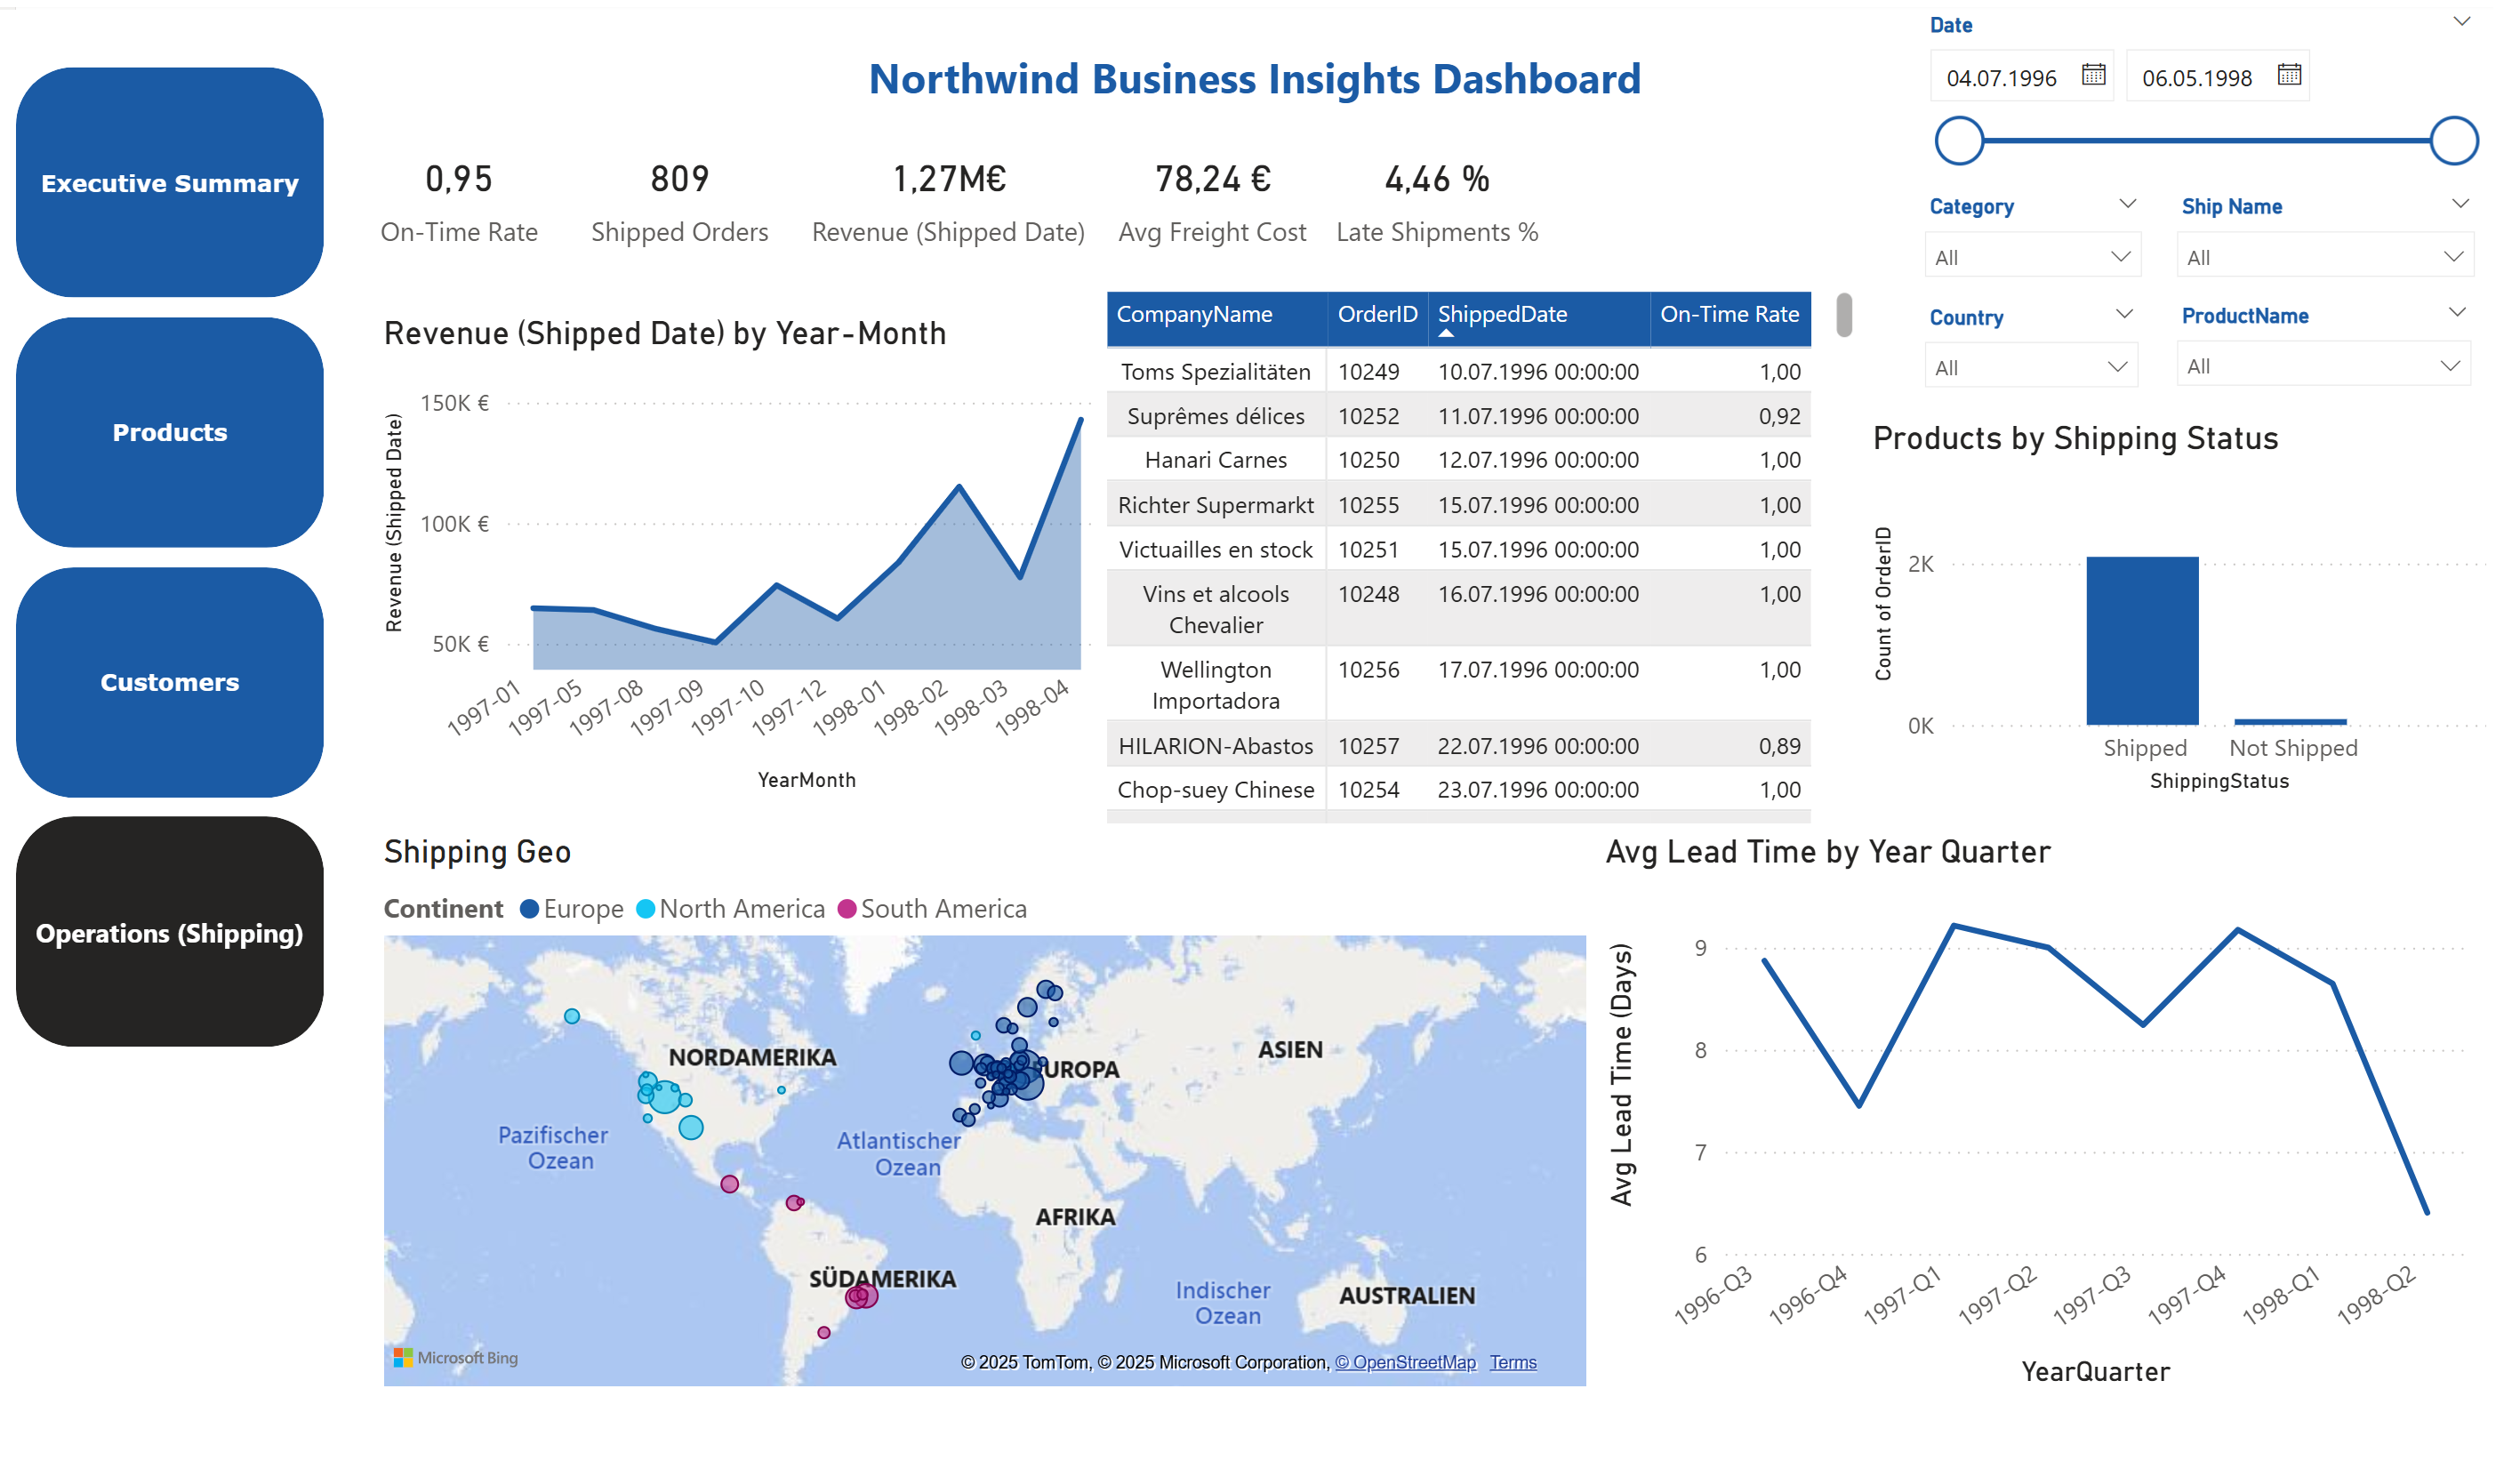

Layout of this report page (visuals, bound fields, positions):
{"tool":"powerbi","page":{"name":"Operations (Shipping)","canvas":[1280,720],"ordinal":3},"visuals":[{"type":"textbox","box":[405,19.5,470,47.4],"z":0},{"type":"pageNavigator","box":[0,33.7,159.9,506.2],"z":1000},{"type":"slicer","fields":{"Values":["Date.Date"]},"box":[975,0,305,94.2],"z":2000},{"type":"slicer","fields":{"Values":["Categories.CategoryName"]},"box":[975,94.2,132.5,55.8],"z":3000},{"type":"slicer","fields":{"Values":["Customers.Country"]},"box":[975,150.8,130.8,50.8],"z":4000},{"type":"map","title":"Shipping Geo","fields":{"Category":["Orders.ShipCity"],"Size":["Orders.Revenue (Shipped Date)"],"Series":["Customers.Continent"]},"box":[184.8,429,630.7,290.8],"z":5000},{"type":"card","fields":{"Values":["Orders.On-Time Rate"]},"box":[177.8,65.7,102.5,67.5],"z":6000},{"type":"lineChart","title":"Avg Lead Time by Year Quarter","fields":{"Y":["Orders.Avg Lead Time (Days)"],"Category":["Date.YearQuarter"]},"box":[815.5,429,453.9,290.8],"z":7000},{"type":"columnChart","title":"Products by Shipping Status","fields":{"Category":["Orders.ShippingStatus"],"Y":["CountNonNull(Order Details.OrderID)"]},"box":[953.3,215,326.7,197.5],"z":8000},{"type":"stackedAreaChart","title":"Revenue (Shipped Date) by Year-Month","fields":{"Category":["Date.YearMonth"],"Y":["Orders.Revenue (Shipped Date)"]},"box":[185,161.7,382.5,250.8],"z":9000},{"type":"card","fields":{"Values":["Orders.Shipped Orders"]},"box":[280.4,65.7,124.7,67.5],"z":10000},{"type":"slicer","fields":{"Values":["Orders.ShipName"]},"box":[1105.8,94.2,174.2,55.8],"z":11000},{"type":"card","fields":{"Values":["Orders.Revenue (Shipped Date)"]},"box":[405.1,65.7,152.9,67.5],"z":12000},{"type":"card","fields":{"Values":["Orders.Avg Freight Cost"]},"box":[558,65.7,118.8,67.5],"z":13000},{"type":"pivotTable","fields":{"Rows":["Customers.CompanyName"],"Values":["Min(Order Details.OrderID)","Min(Orders.ShippedDate)","Orders.On-Time Rate"]},"box":[558.3,145,395,284.2],"z":14000},{"type":"card","fields":{"Values":["Orders.Late Shipments %"]},"box":[667.3,66.6,132.4,66.6],"z":15000},{"type":"slicer","fields":{"Values":["Products.ProductName"]},"box":[1105.8,150,172.5,50.8],"z":16000}]}

Visuals, with their boxes on the page's 1280x720 design canvas (x1, y1, x2, y2). These are canvas units, not pixel positions in the 2520x1469 screenshot, which may show the page scaled, cropped or inside an application window:
textbox: crop(405, 20, 875, 67)
pageNavigator: crop(0, 34, 160, 540)
slicer - Date.Date: crop(975, 0, 1280, 94)
slicer - Categories.CategoryName: crop(975, 94, 1108, 150)
slicer - Customers.Country: crop(975, 151, 1106, 202)
"Shipping Geo" map: crop(185, 429, 816, 720)
card - Orders.On-Time Rate: crop(178, 66, 280, 133)
"Avg Lead Time by Year Quarter" lineChart: crop(816, 429, 1269, 720)
"Products by Shipping Status" columnChart: crop(953, 215, 1280, 412)
"Revenue (Shipped Date) by Year-Month" stackedAreaChart: crop(185, 162, 568, 412)
card - Orders.Shipped Orders: crop(280, 66, 405, 133)
slicer - Orders.ShipName: crop(1106, 94, 1280, 150)
card - Orders.Revenue (Shipped Date): crop(405, 66, 558, 133)
card - Orders.Avg Freight Cost: crop(558, 66, 677, 133)
pivotTable - Customers.CompanyName x Min(Order Details.OrderID): crop(558, 145, 953, 429)
card - Orders.Late Shipments %: crop(667, 67, 800, 133)
slicer - Products.ProductName: crop(1106, 150, 1278, 201)
